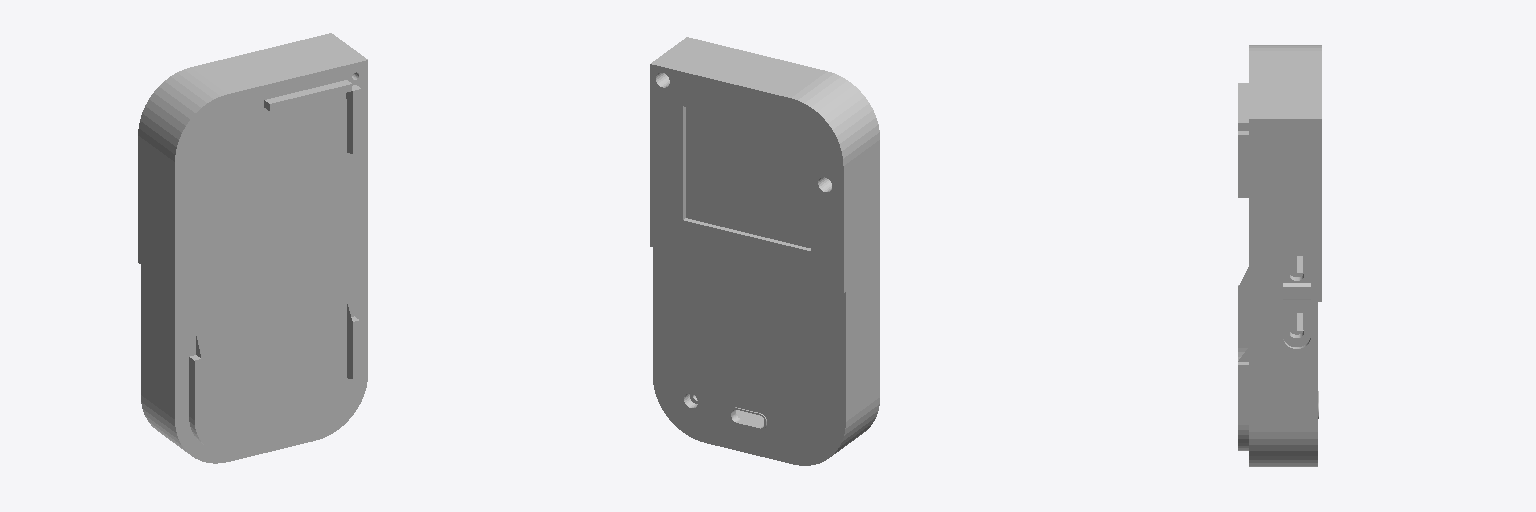
The model's file is Main Case.obj.
The picture shows the model from 3 angles: view 1: azimuth 30°, elevation 25°; view 2: azimuth 150°, elevation 25°; view 3: azimuth 270°, elevation 25°; orthographic projection.
Parts seen in each view (by area): view 1: Mesh1 Main_Cradle1 Model; view 2: Mesh1 Main_Cradle1 Model; view 3: Mesh1 Main_Cradle1 Model.
Boxes of the visible parts, <box> form: Mesh1 Main_Cradle1 Model: <box>138,33,367,463</box>; Mesh1 Main_Cradle1 Model: <box>650,37,879,465</box>; Mesh1 Main_Cradle1 Model: <box>1238,45,1321,466</box>.
Size of the model in its own units: 55 by 100 by 20.87.